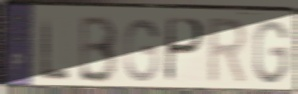B: (77, 13, 120, 86)
G: (251, 19, 290, 87), (123, 16, 161, 84)
L: (40, 14, 71, 83)
P: (163, 15, 206, 86)
R: (205, 16, 250, 88)
